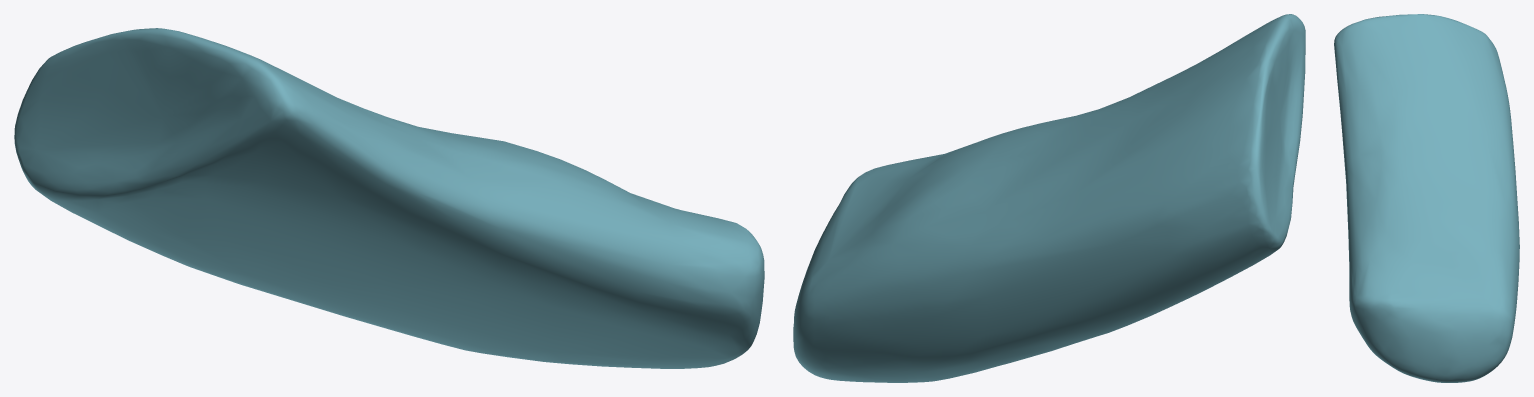
The picture shows the model from 3 angles, left to right: view 1: azimuth 30°, elevation 25°; view 2: azimuth 150°, elevation 25°; view 3: azimuth 270°, elevation 25°; orthographic projection. The views are drawn at different scales.
Visible parts, largest first — view 1: 右侧第二肋软骨; view 2: 右侧第二肋软骨; view 3: 右侧第二肋软骨.
Part boxes in pixels (left/top/right/bottom): 右侧第二肋软骨: left=14, top=28, right=764, bottom=368; 右侧第二肋软骨: left=793, top=14, right=1305, bottom=382; 右侧第二肋软骨: left=1334, top=14, right=1519, bottom=382.
Size of the model in its own units: 0.0491 by 0.0358 by 0.0247.
